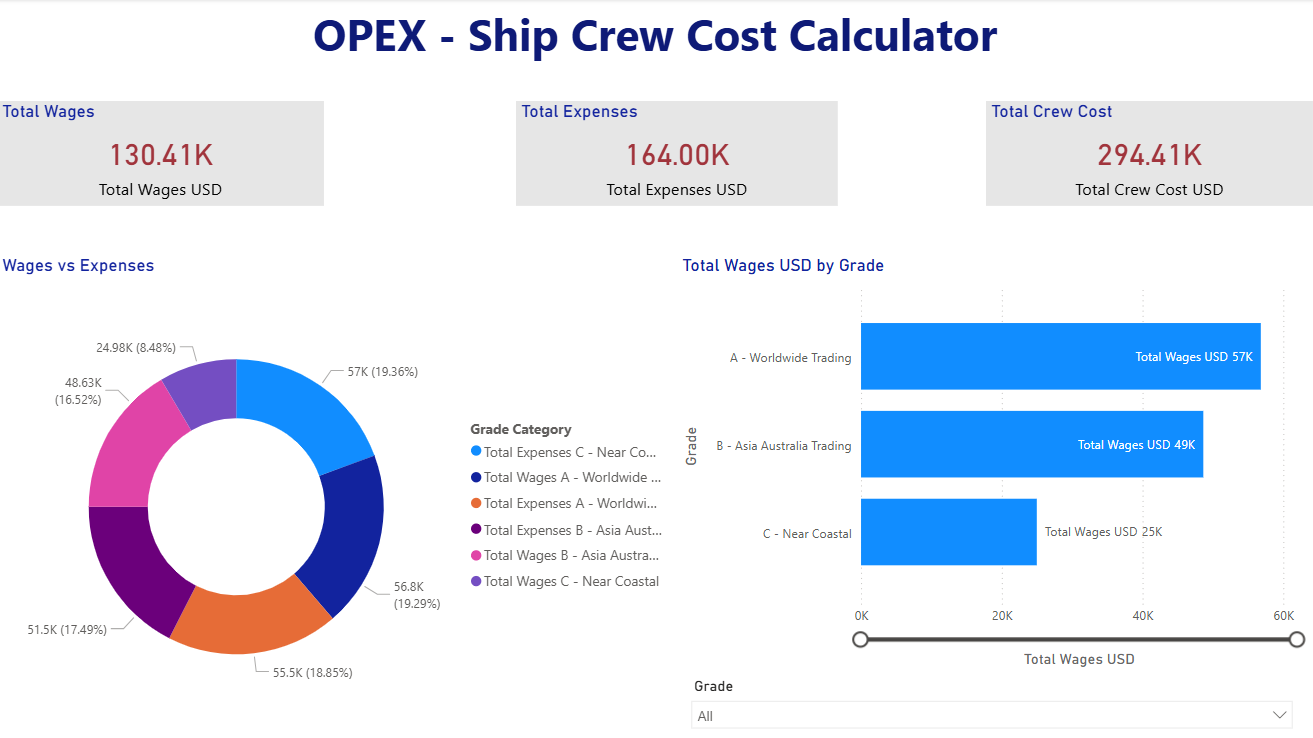

This screenshot's page, from the dashboard's own definition file:
{"tool":"powerbi","page":{"name":"Overview","canvas":[1280,720],"ordinal":0},"visuals":[{"type":"card","title":"Total Wages","fields":{"Values":["Wages.Total Wages USD"]},"box":[0,99.2,318.1,102.1],"z":0},{"type":"card","title":"Total Expenses","fields":{"Values":["Wages.Total Expenses USD"]},"box":[504.8,99.2,313.2,102.1],"z":1000},{"type":"card","title":"Total Crew Cost","fields":{"Values":["Wages.Total Crew Cost USD"]},"box":[961.9,99.2,318.1,102.1],"z":2000},{"type":"clusteredBarChart","fields":{"Category":["Wages.Grade"],"Y":["Wages.Total Wages USD"]},"box":[661.4,249,618.6,405.6],"z":3000},{"type":"donutChart","title":"Wages vs Expenses","fields":{"Category":["CostSummary.Kategori","CostSummary.Grade"],"Y":["Sum(CostSummary.Nilai)"]},"box":[0,249,661.4,470.8],"z":4000},{"type":"slicer","fields":{"Values":["Wages.Grade"]},"box":[665.3,654.6,605,65.2],"z":5000},{"type":"textbox","box":[0,0,1280,84.6],"z":5001}]}

Visuals, with their boxes in screenshot pixels (x1, y1, x2, y2), scaled from the page's 1280x720 canvas onto the 1313x738 screenshot:
"Total Wages" card: 0/102/326/206
"Total Expenses" card: 518/102/839/206
"Total Crew Cost" card: 987/102/1312/206
clusteredBarChart - Wages.Grade x Wages.Total Wages USD: 678/255/1312/671
"Wages vs Expenses" donutChart: 0/255/678/737
slicer - Wages.Grade: 682/671/1303/737
textbox: 0/0/1312/87
